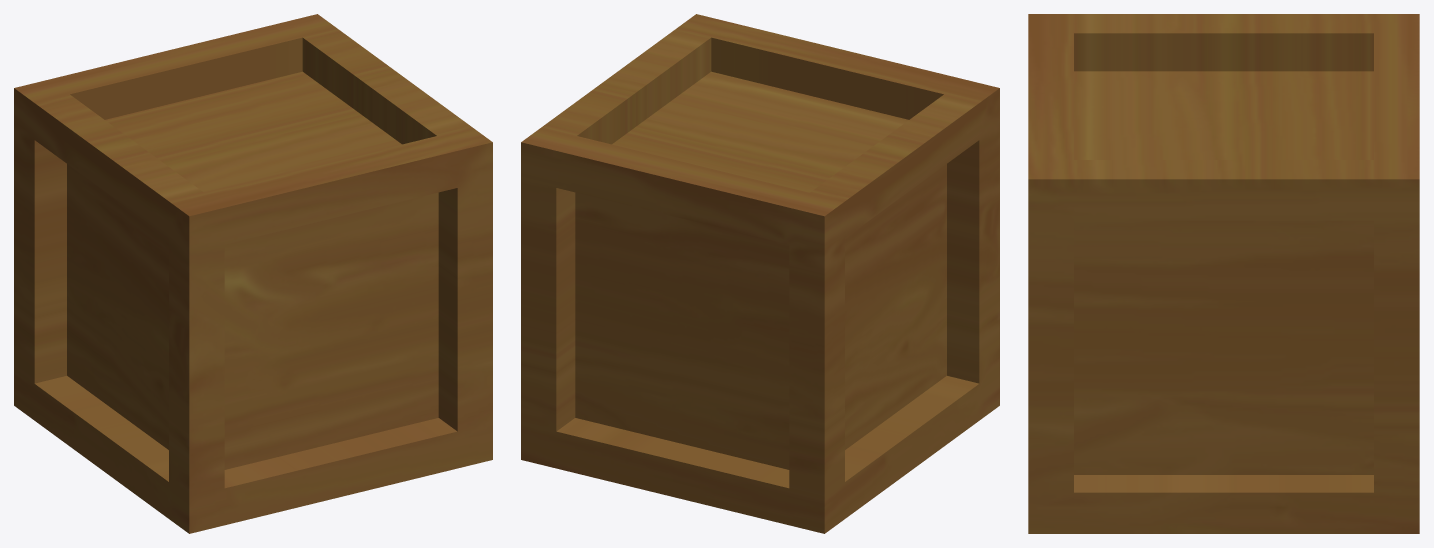
Rendered from tahta_kutu.fbx.
The picture shows the model from 3 angles, left to right: view 1: azimuth 30°, elevation 25°; view 2: azimuth 150°, elevation 25°; view 3: azimuth 270°, elevation 25°; orthographic projection. The views are drawn at different scales.
Parts seen in each view (by area): view 1: kutu 2; view 2: kutu 2; view 3: kutu 2.
Boxes of the visible parts, x1,y1,x2,y2 form: kutu 2: (14, 14, 492, 533); kutu 2: (521, 14, 999, 533); kutu 2: (1028, 14, 1419, 533).
Bounding box in the file's own units: 1.44 × 1.44 × 1.44.
1 material, 1 textured.
